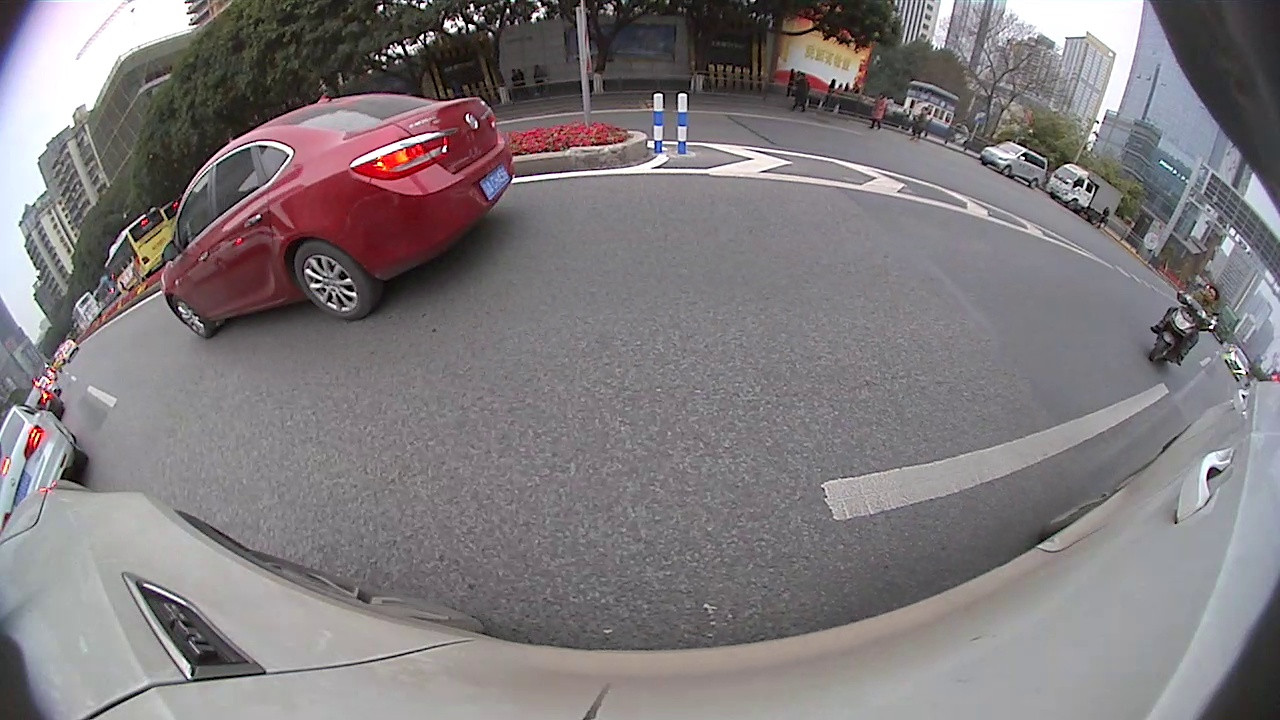bus: (102, 208, 173, 289)
car: (163, 93, 517, 342), (1, 407, 87, 527), (978, 138, 1047, 190), (19, 382, 65, 417)
front: (170, 296, 211, 341)
person: (875, 90, 885, 131), (799, 72, 809, 111), (916, 104, 925, 138)
rear: (294, 243, 372, 322)
rider: (1149, 281, 1219, 369)
truck: (1049, 159, 1124, 226)
